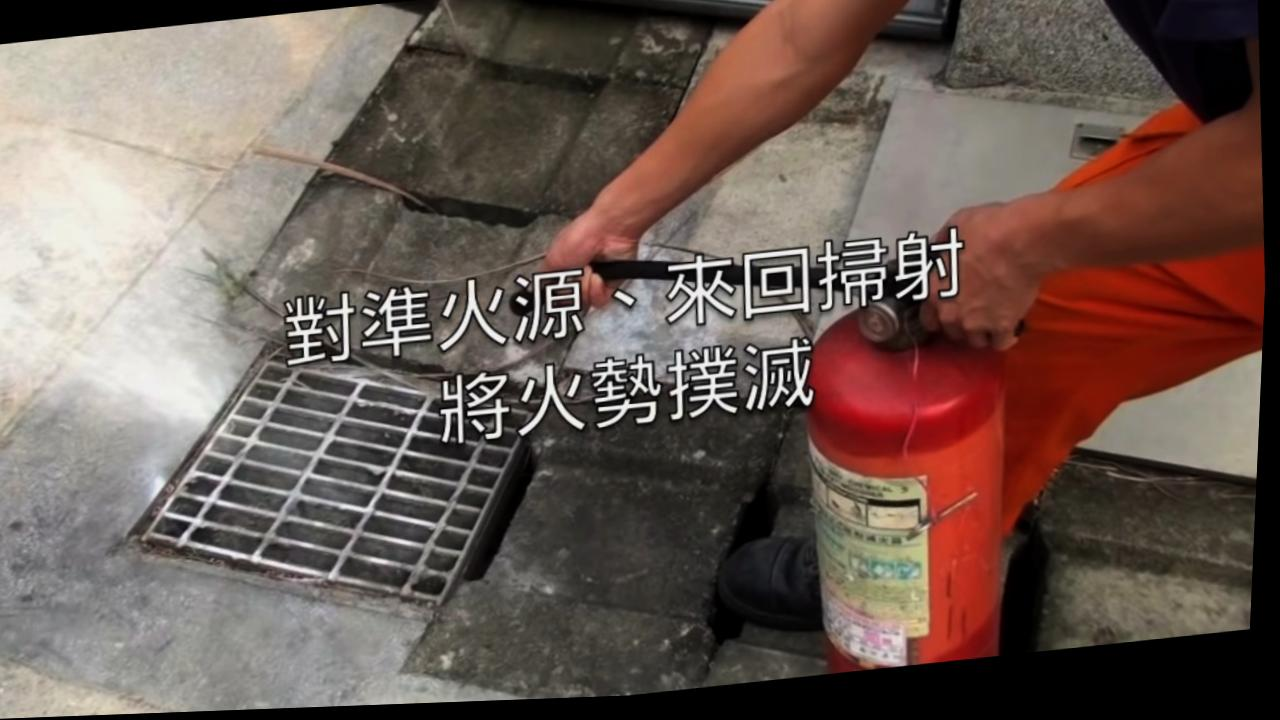FireExtinguisher: (762, 257, 1063, 686)
